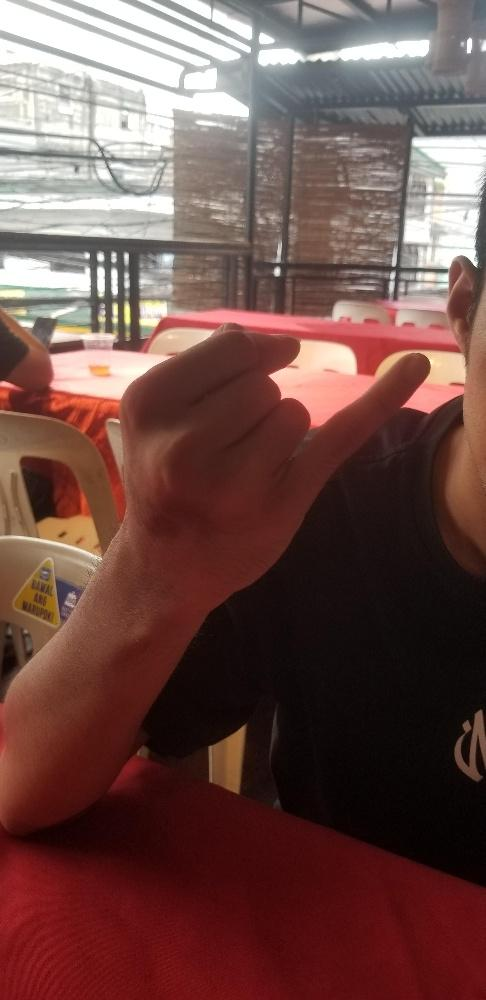j: (117, 315, 433, 596)
